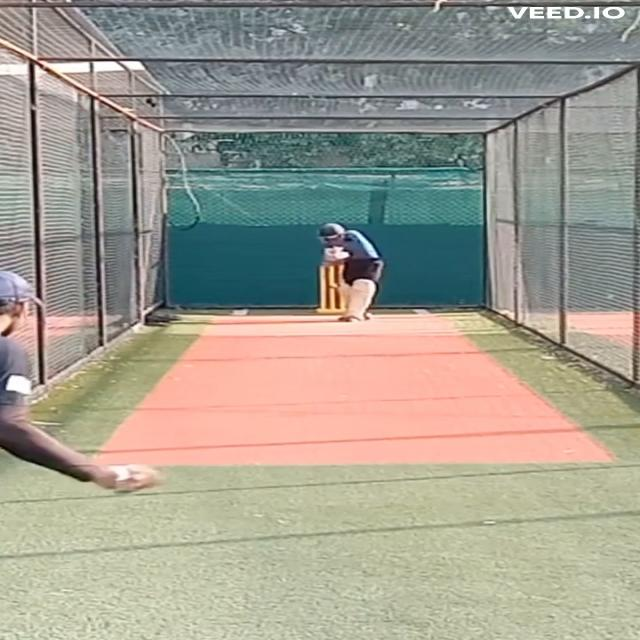ball: (326, 282, 341, 289)
stump: (315, 265, 350, 314)
